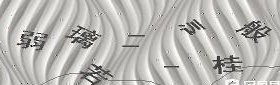chinese: (235, 15, 267, 44), (16, 26, 49, 51), (66, 26, 101, 48), (177, 17, 207, 42), (213, 52, 245, 75), (80, 61, 110, 81)
